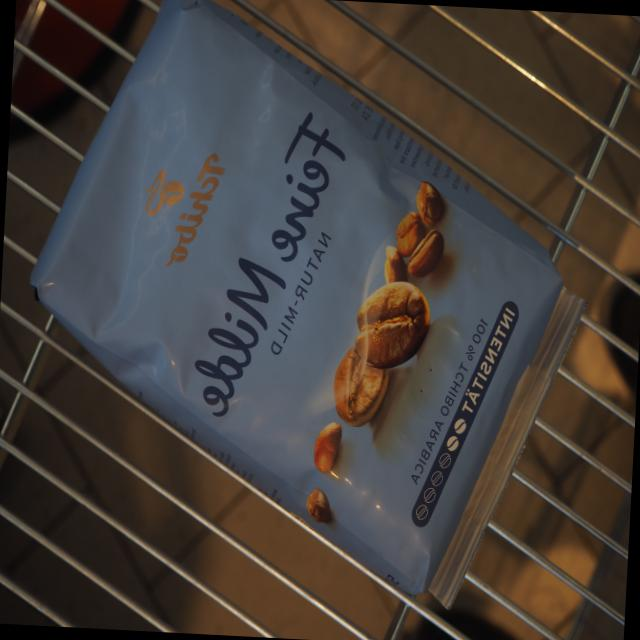FM Bohne: (7, 0, 607, 624)
